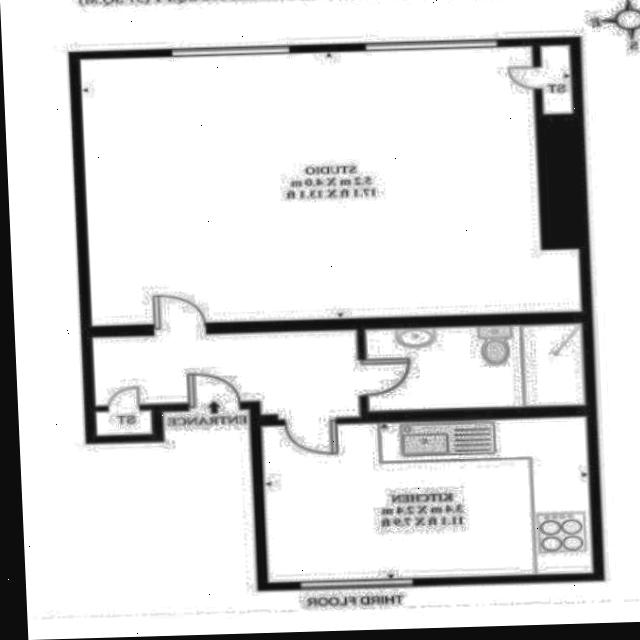room: (80, 45, 583, 326), (263, 416, 593, 581), (93, 328, 359, 420), (365, 322, 586, 412), (541, 45, 572, 114), (96, 411, 152, 436)
